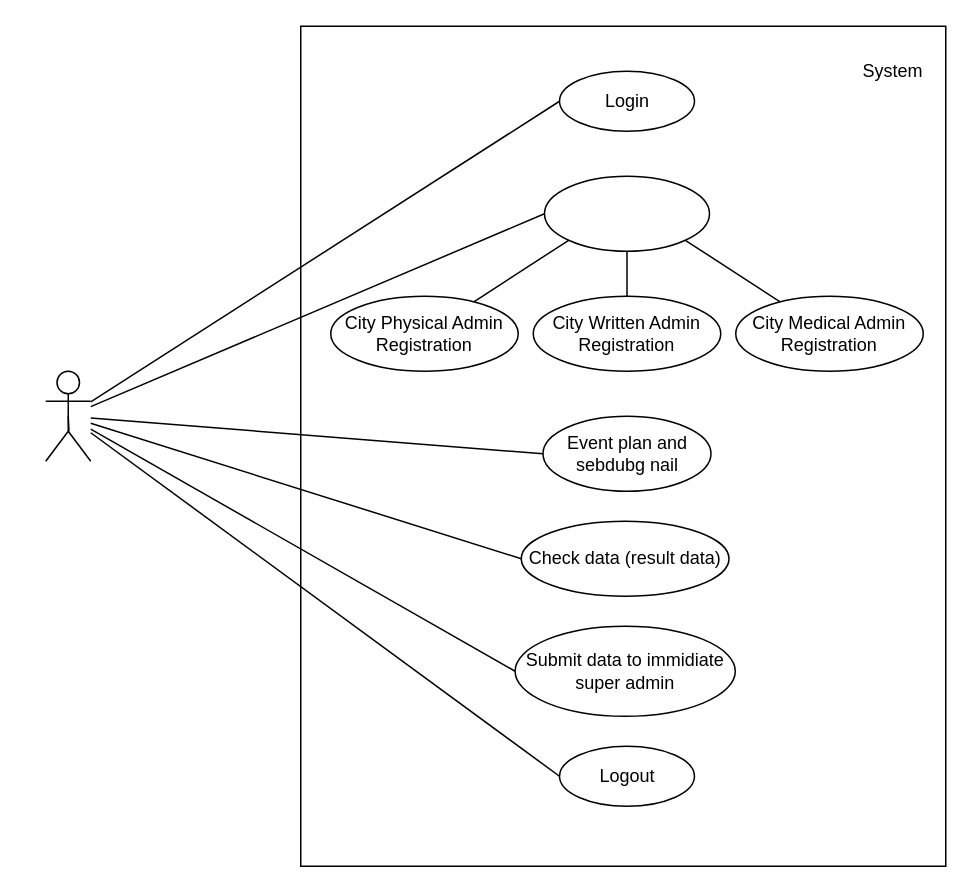
Image size: 972x893. Some labels were removed from this diagram. Each missing label, with the centre of its shape:
City Admin: the point at 67,415
Sub admin Registration: the point at 626,213
